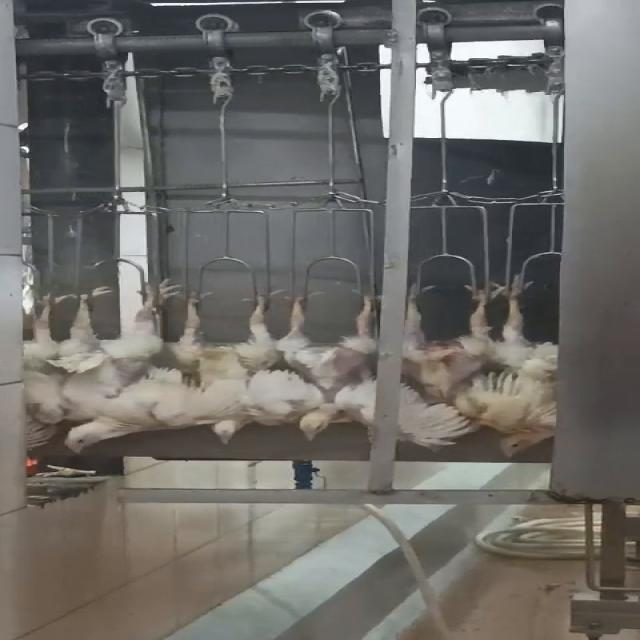chicken: (64, 280, 181, 460), (165, 286, 283, 444), (274, 289, 389, 445), (396, 276, 496, 455), (482, 274, 576, 462), (16, 286, 80, 458)
